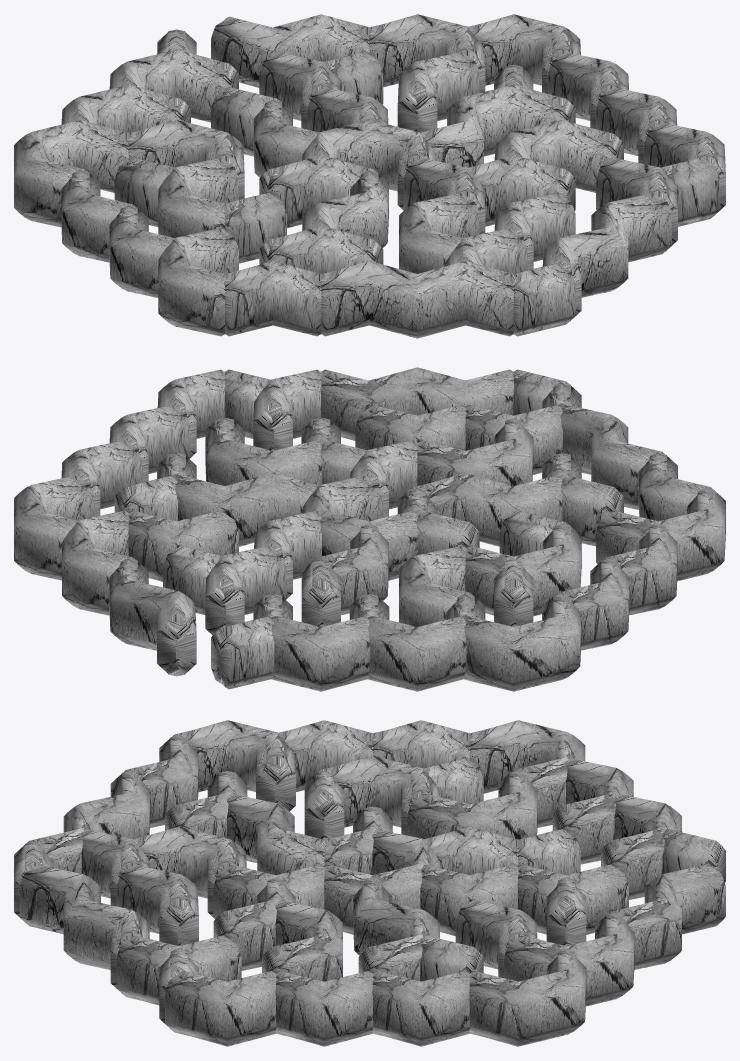
The model's file is lvl2_maze.fbx.
The picture shows the model from 3 angles, top to bottom: view 1: azimuth 30°, elevation 25°; view 2: azimuth 150°, elevation 25°; view 3: azimuth 270°, elevation 25°; orthographic projection.
Parts seen in each view (by area): view 1: Curve.035; view 2: Curve.035; view 3: Curve.035.
Boxes of the visible parts, left/top/right/bottom form: Curve.035: left=14, top=14, right=725, bottom=338; Curve.035: left=14, top=367, right=725, bottom=691; Curve.035: left=14, top=720, right=725, bottom=1046.
Size of the model in its own units: 1162 by 127 by 1257.
